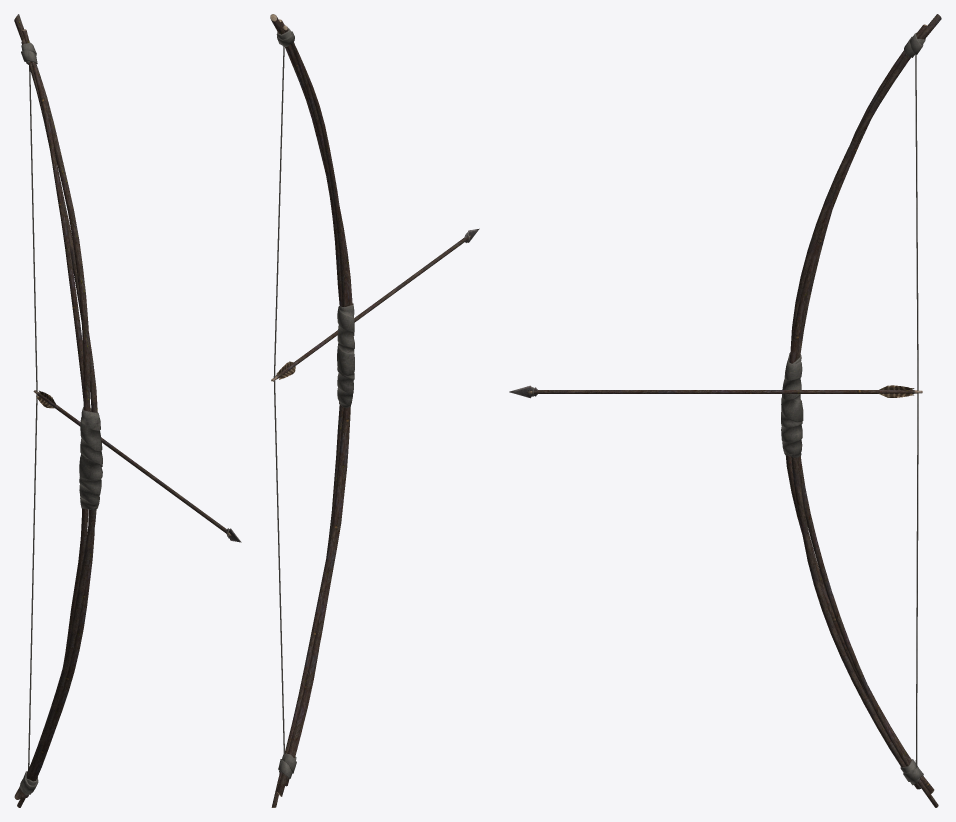
The model's file is Weapons_LongBowA_LOD0.glb.
3 renders of one model, left to right at view 1: azimuth 30°, elevation 25°; view 2: azimuth 150°, elevation 25°; view 3: azimuth 270°, elevation 25°, orthographic.
Visible parts, largest first — view 1: Hoodie; view 2: Hoodie; view 3: Hoodie.
Boxes of the visible parts, x1,y1,x2,y2 form: Hoodie: (14, 14, 241, 807); Hoodie: (270, 14, 479, 807); Hoodie: (509, 14, 941, 807).
Size of the model in its own units: 0.0582 by 1.8 by 0.8896.
Materials: 1 (1 with a texture image).
